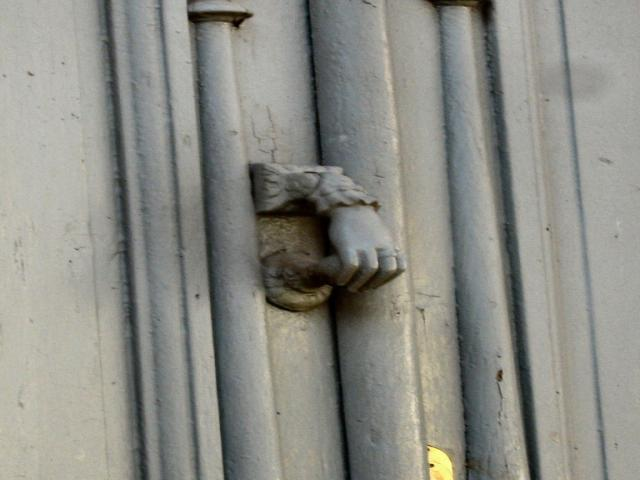Door-handle: (248, 162, 409, 313)
